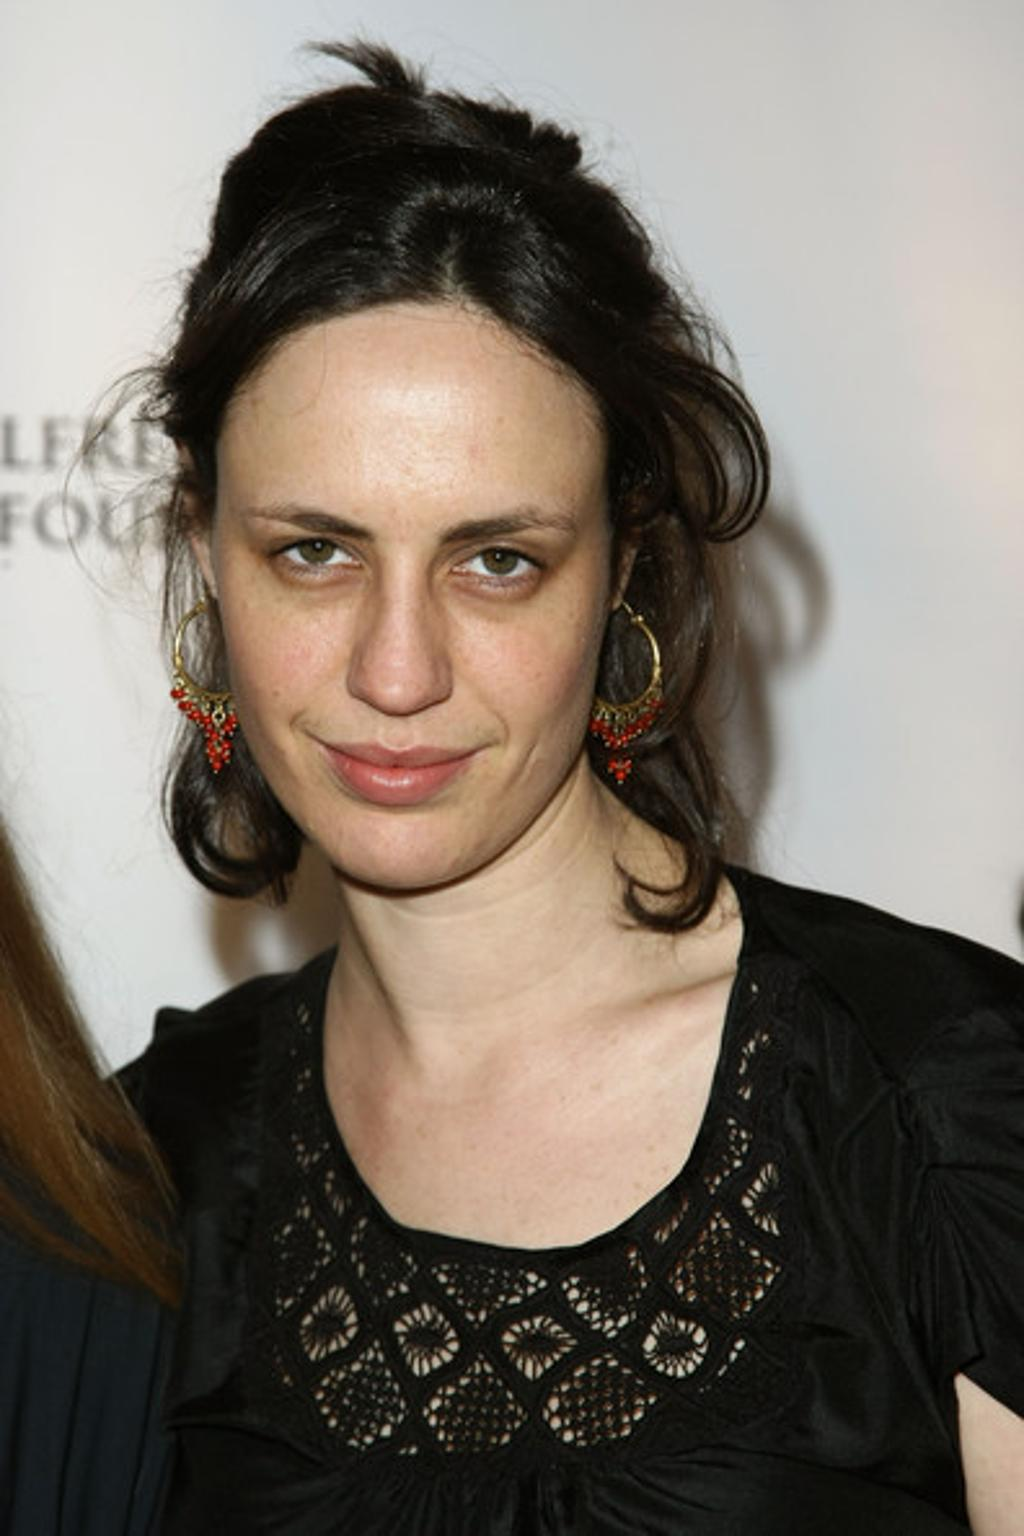face: (210, 273, 606, 895)
